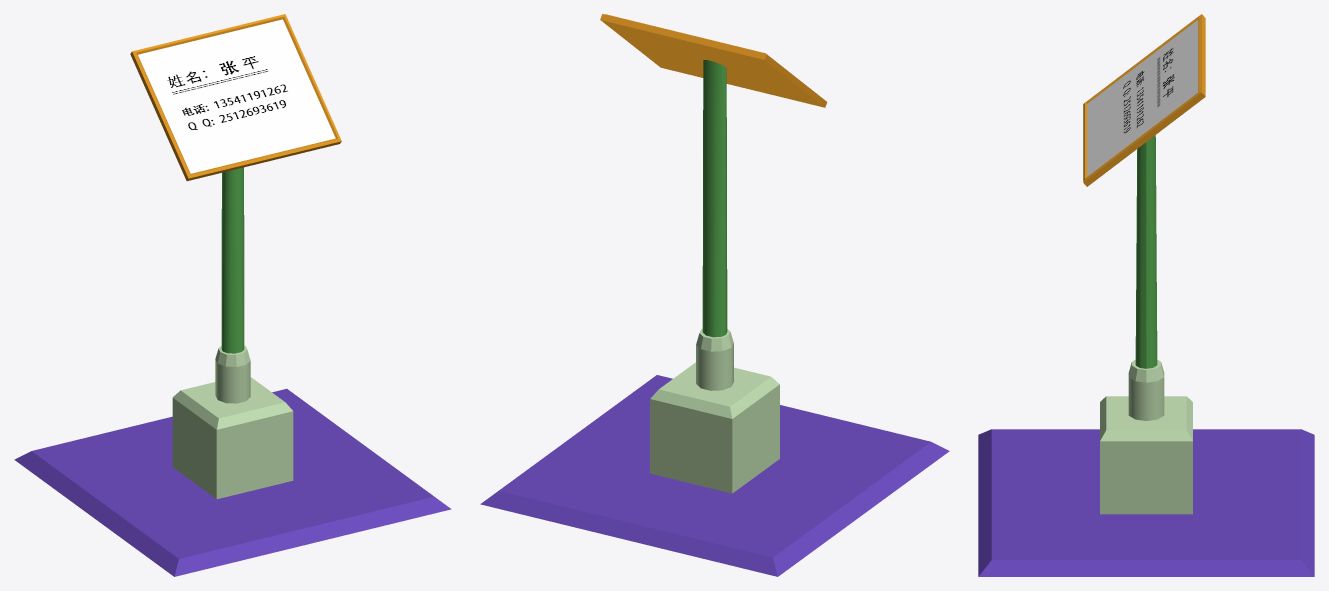
File: doorplate.obj
The picture shows the model from 3 angles, left to right: view 1: azimuth 30°, elevation 25°; view 2: azimuth 150°, elevation 25°; view 3: azimuth 270°, elevation 25°; orthographic projection. The views are drawn at different scales.
Parts seen in each view (by area): view 1: Box001; view 2: Box001; view 3: Box001.
Part boxes in pixels (x1=…): Box001: x1=14, y1=14, x2=451, y2=576; Box001: x1=480, y1=14, x2=949, y2=576; Box001: x1=978, y1=14, x2=1314, y2=576.
Bounding box in the file's own units: 54.29 × 80.8 × 54.29.
